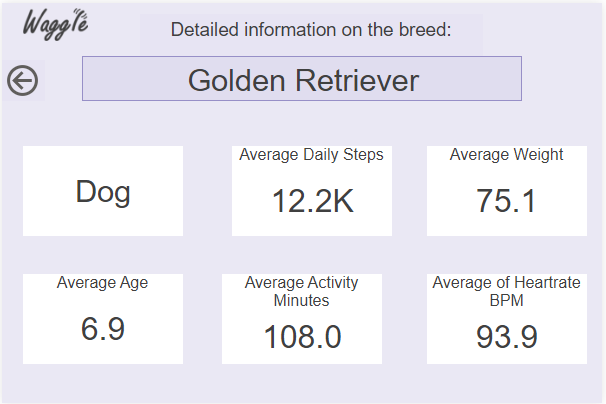

The dashboard page shown, as its layout file describes it:
{"tool":"powerbi","page":{"name":"DT breed","canvas":[600,400],"ordinal":3},"visuals":[{"type":"actionButton","box":[0,57,43,41],"z":0},{"type":"card","fields":{"Values":["Min(Pet_Data.Breed)"]},"box":[80,53,440,45],"z":1000},{"type":"card","title":"Average Weight","fields":{"Values":["Avg(Pet_Data.Weight)"]},"box":[425,143,160,90],"z":2000},{"type":"card","title":"Average Age","fields":{"Values":["Avg(Pet_Data.Age)"]},"box":[21,271,160,90],"z":3000},{"type":"card","title":"Average Daily Steps","fields":{"Values":["Avg(Tracker_Data.Daily_Steps)"]},"box":[230,143,160,90],"z":4000},{"type":"card","title":"Average Activity Minutes","fields":{"Values":["Avg(Tracker_Data.Activity_Minutes)"]},"box":[220,271,160,90],"z":5000},{"type":"card","title":"Average of Heartrate BPM","fields":{"Values":["Avg(Tracker_Data.Heartrate_BPM)"]},"box":[425,271,160,90],"z":6000},{"type":"textbox","box":[138,11,343,42],"z":7000},{"type":"card","fields":{"Values":["Min(Pet_Data.Dog/Cat)"]},"box":[21,143,160,90],"z":8000}]}

Visuals, with their boxes in screenshot pixels (x1, y1, x2, y2), scaled from the page's 600x400 canvas onto the 606x404 screenshot:
actionButton: pyautogui.locateOnScreen(0, 58, 43, 99)
card - Min(Pet_Data.Breed): pyautogui.locateOnScreen(81, 54, 525, 99)
"Average Weight" card: pyautogui.locateOnScreen(429, 144, 591, 235)
"Average Age" card: pyautogui.locateOnScreen(21, 274, 183, 365)
"Average Daily Steps" card: pyautogui.locateOnScreen(232, 144, 394, 235)
"Average Activity Minutes" card: pyautogui.locateOnScreen(222, 274, 384, 365)
"Average of Heartrate BPM" card: pyautogui.locateOnScreen(429, 274, 591, 365)
textbox: pyautogui.locateOnScreen(139, 11, 486, 54)
card - Min(Pet_Data.Dog/Cat): pyautogui.locateOnScreen(21, 144, 183, 235)
